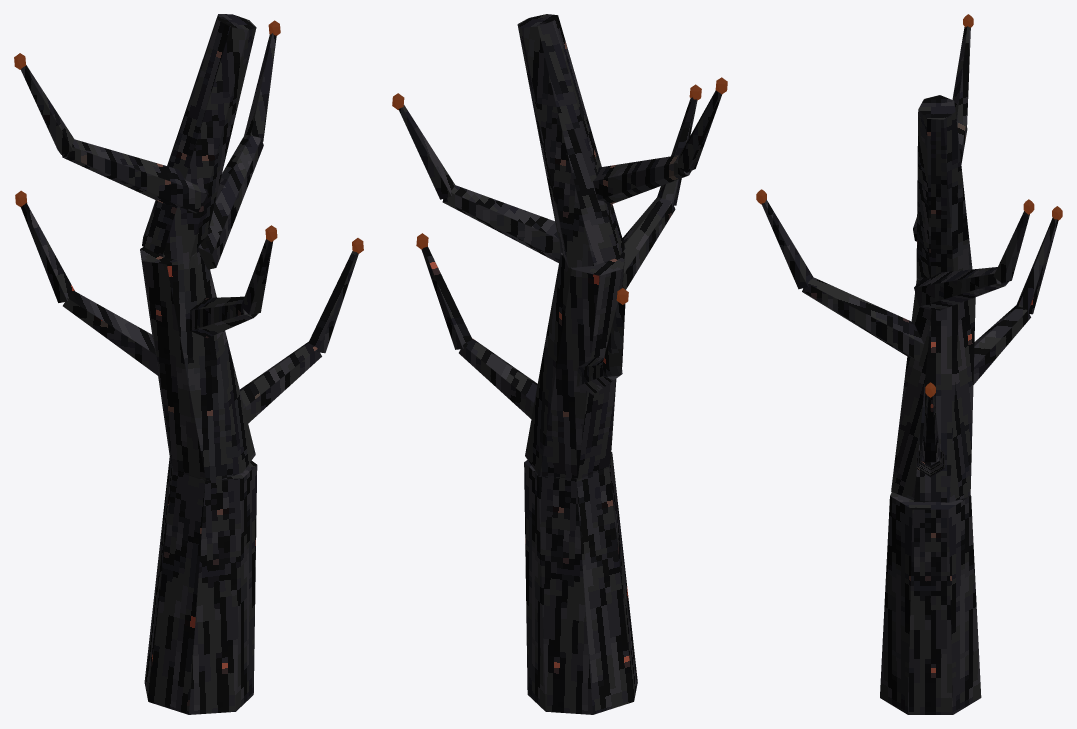
The model's file is arvore.fbx.
3 renders of one model, left to right at view 1: azimuth 30°, elevation 25°; view 2: azimuth 150°, elevation 25°; view 3: azimuth 270°, elevation 25°, orthographic. The views are drawn at different scales.
Visible parts, largest first — view 1: vulcao_arvore; view 2: vulcao_arvore; view 3: vulcao_arvore.
Part boxes in pixels (x1,y1,x2,y2): vulcao_arvore: (14,14,363,714); vulcao_arvore: (392,14,727,714); vulcao_arvore: (756,14,1062,714).
Size of the model in its own units: 99.99 by 195 by 88.29.
Materials: 2 (1 with a texture image).
